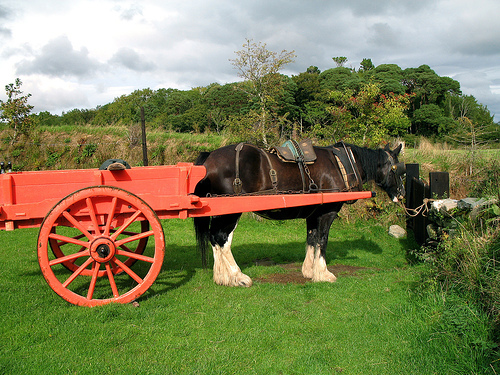horse: (191, 138, 409, 288)
